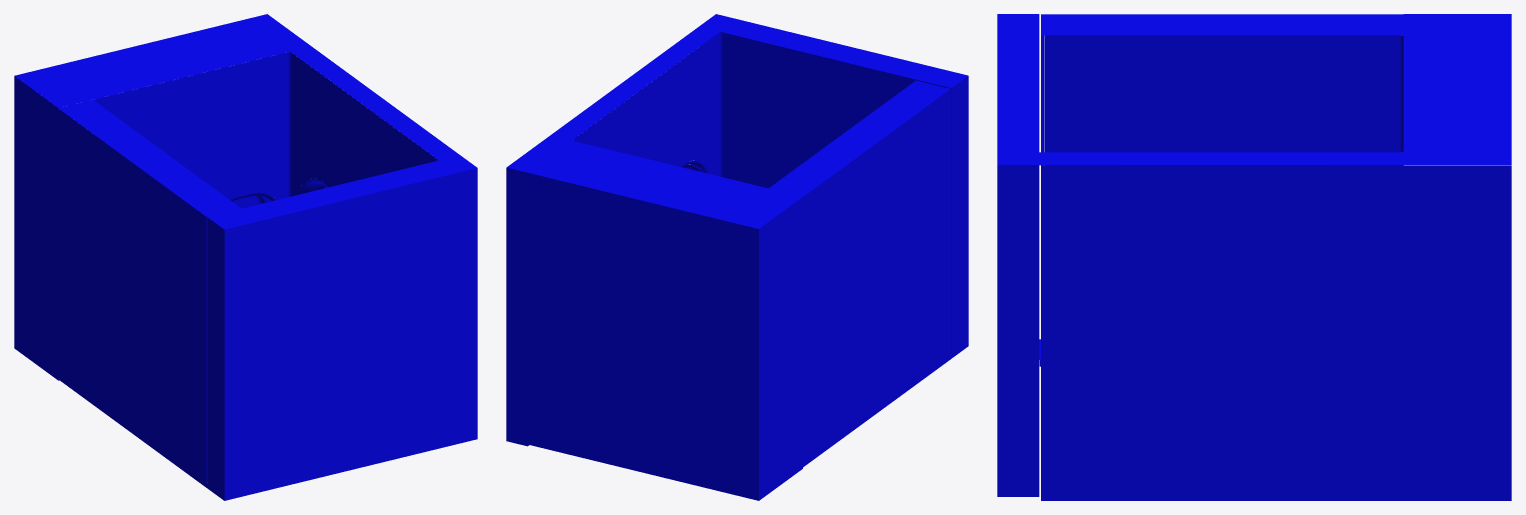
File: paredes_bacterias.glb
The picture shows the model from 3 angles, left to right: view 1: azimuth 30°, elevation 25°; view 2: azimuth 150°, elevation 25°; view 3: azimuth 270°, elevation 25°; orthographic projection. The views are drawn at different scales.
Bounding box in the file's own units: 0.0274 × 0.0283 × 0.0394.
